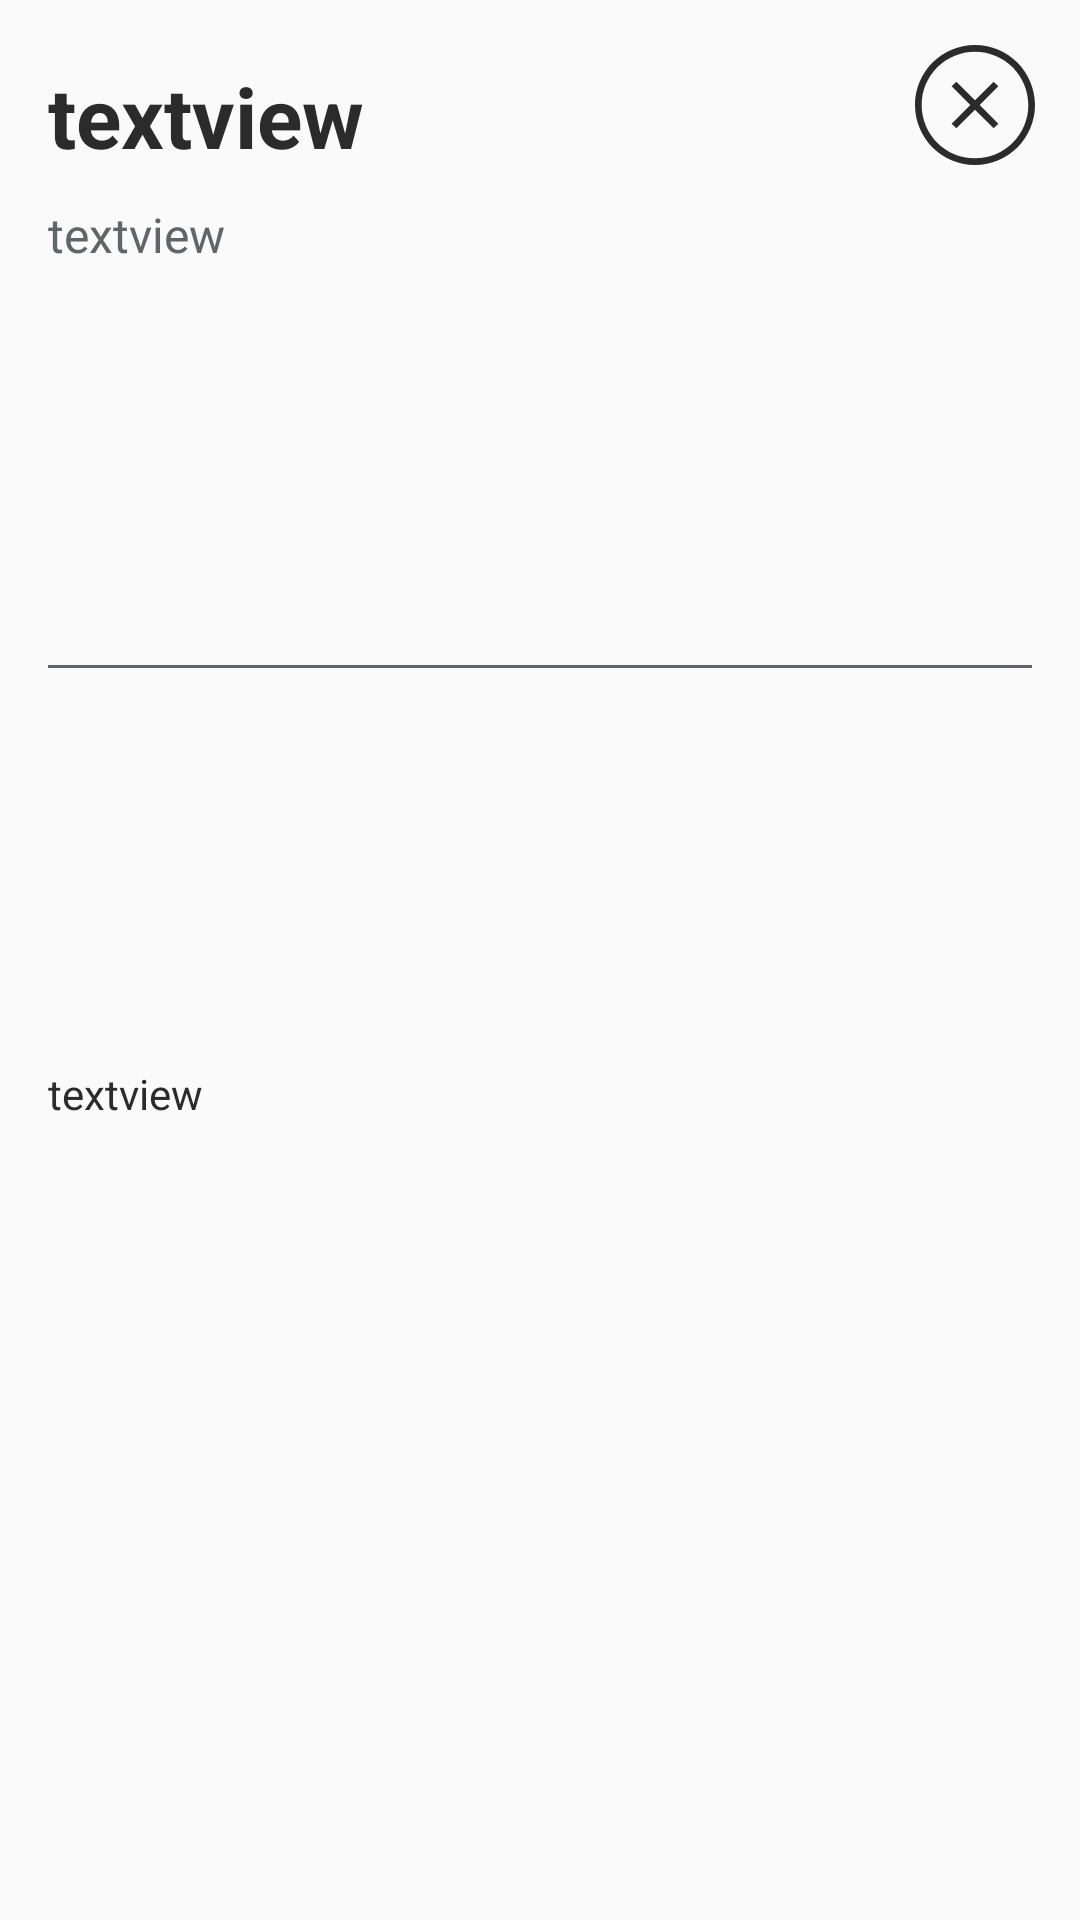

Named icons in this screenshot (1080*1920) and their centers, [x,y]:
close marker: [975,105]
